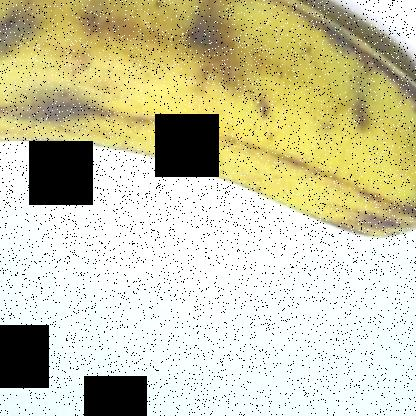overripe: (1, 1, 415, 254)
